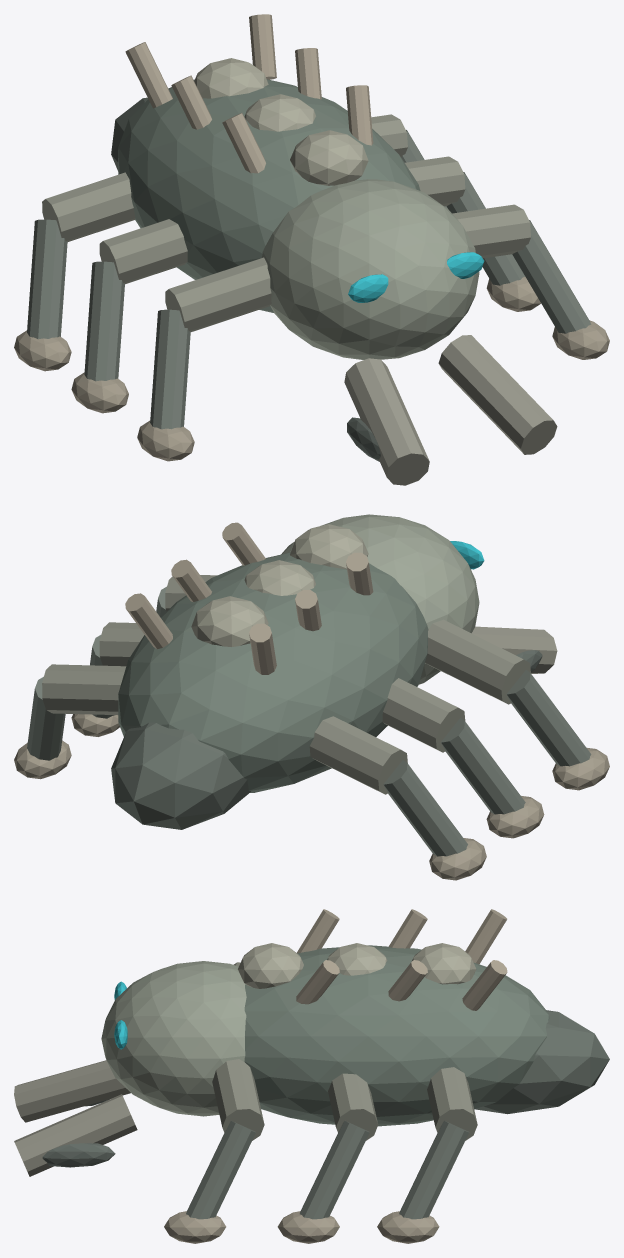
The model's file is crypt-crawler.glb.
3 views of the same model, one above another, from view 1: azimuth 30°, elevation 25°; view 2: azimuth 150°, elevation 25°; view 3: azimuth 270°, elevation 25° (orthographic). The views are drawn at different scales.
Parts seen in each view (by area): view 1: world; view 2: world; view 3: world.
Boxes of the visible parts, left/top/right/bottom form: world: left=14, top=14, right=609, bottom=485; world: left=14, top=514, right=609, bottom=880; world: left=14, top=909, right=609, bottom=1243.
Size of the model in its own units: 1.62 by 0.8439 by 2.1.
